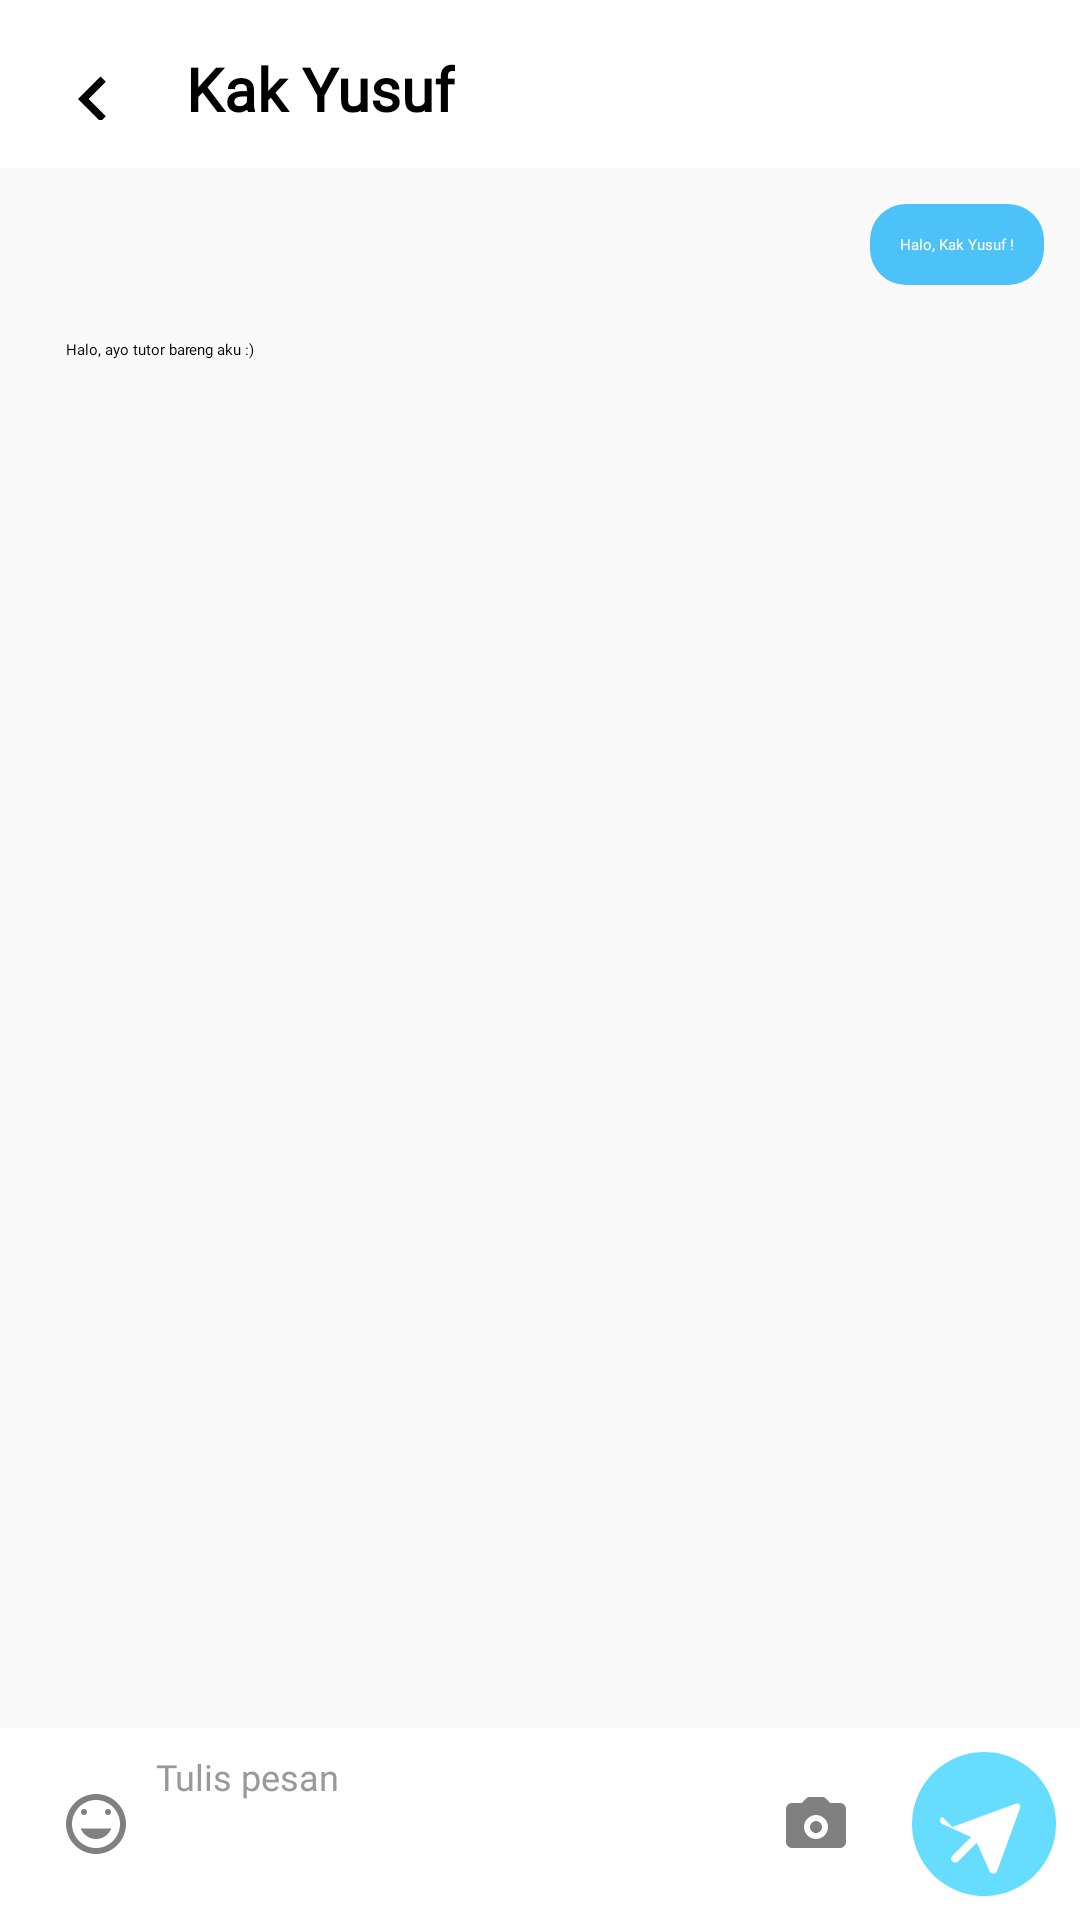

Point at icon controls on the screen. Image size 1080×1920, points as point (x, y).
Back: point (92, 98)
Emoji: point (96, 1824)
Kamera: point (816, 1822)
Send: point (984, 1824)
